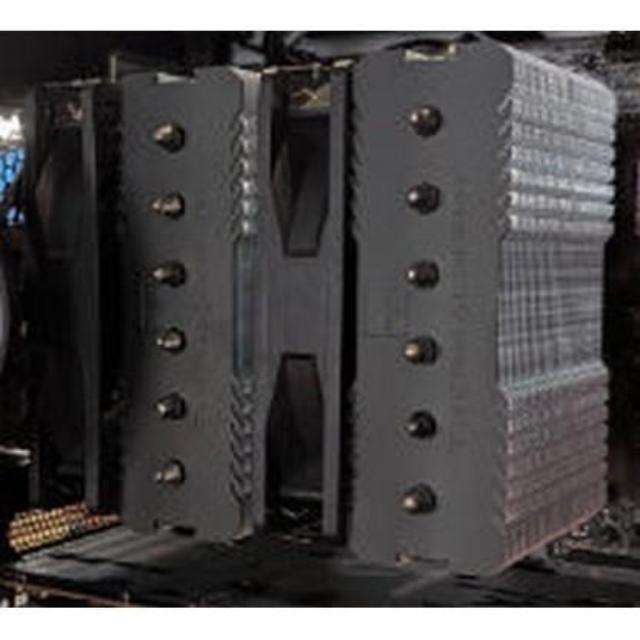CPU_Fan: (19, 41, 608, 570)
